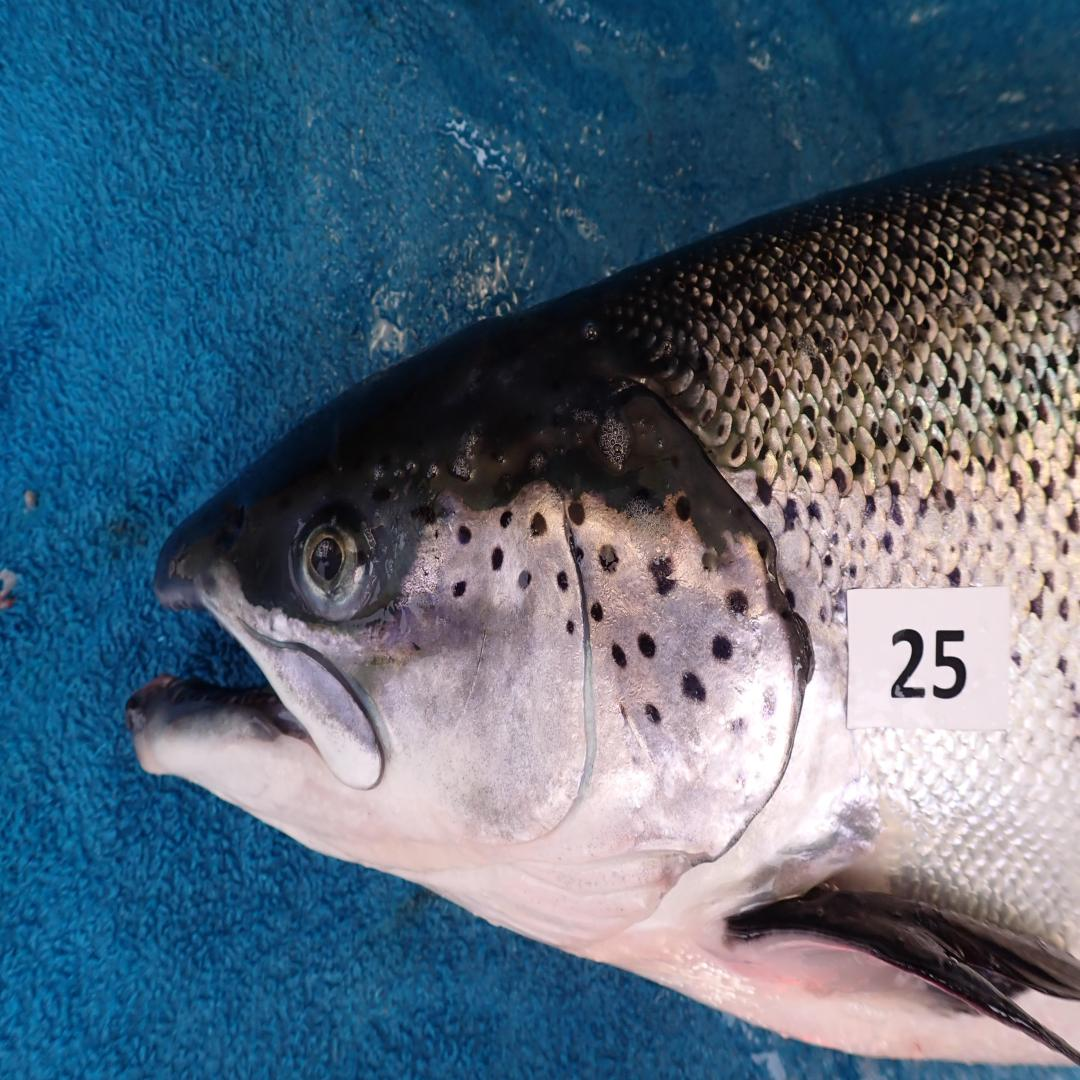spot: (650, 557, 675, 596), (681, 672, 707, 700), (711, 636, 732, 661), (726, 591, 749, 613), (599, 546, 618, 571), (637, 633, 656, 658), (763, 686, 777, 719), (567, 501, 584, 526), (702, 548, 719, 571), (675, 495, 690, 520), (532, 512, 546, 537), (731, 714, 746, 737), (612, 644, 626, 667), (645, 703, 660, 723), (491, 548, 504, 571), (500, 509, 513, 529), (458, 526, 470, 546), (591, 602, 603, 622), (519, 571, 532, 588), (557, 571, 567, 591), (454, 582, 466, 596), (574, 546, 584, 562), (567, 622, 574, 633), (413, 643, 420, 651)
